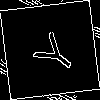Y: (25, 25, 81, 79)
